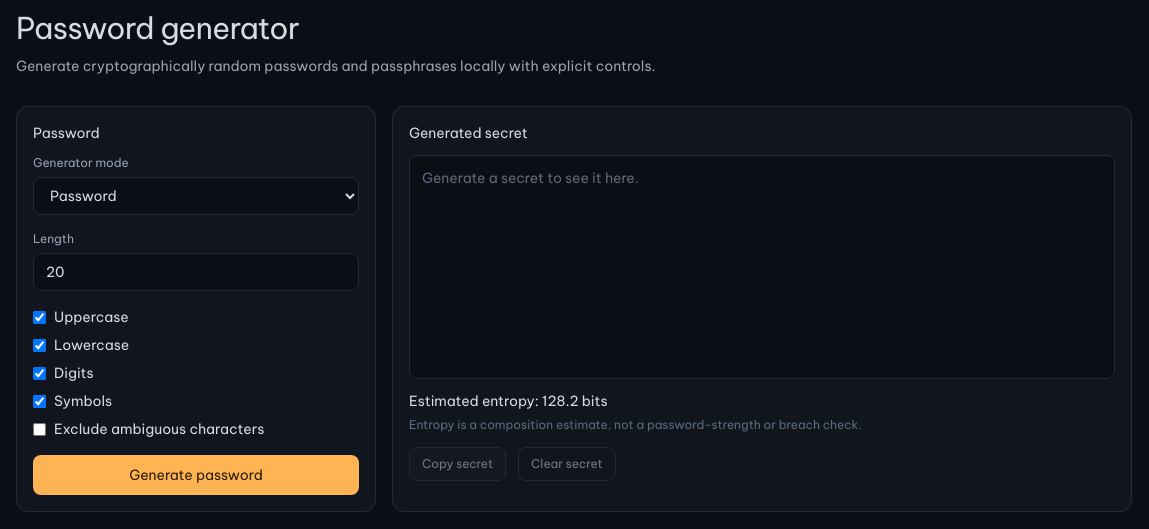
Test case: Password Generator tool › resets copy confirmation when a new secret is generated
The image size is (1149, 529).
Click the button "Generate password" at (196, 475), box [33,455,359,495]
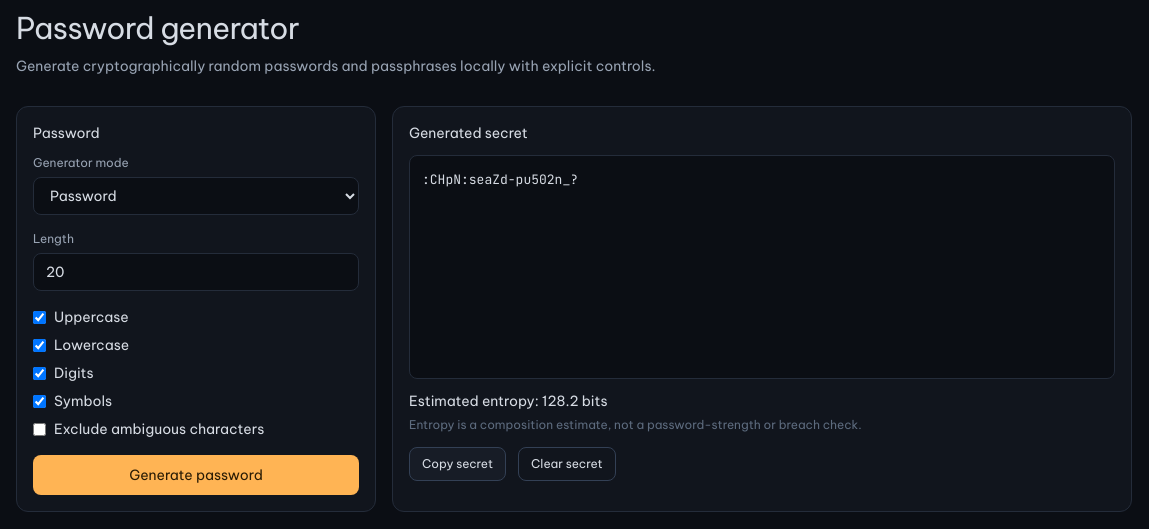
Click the button "Copy secret" at (458, 464), box [409,447,506,481]
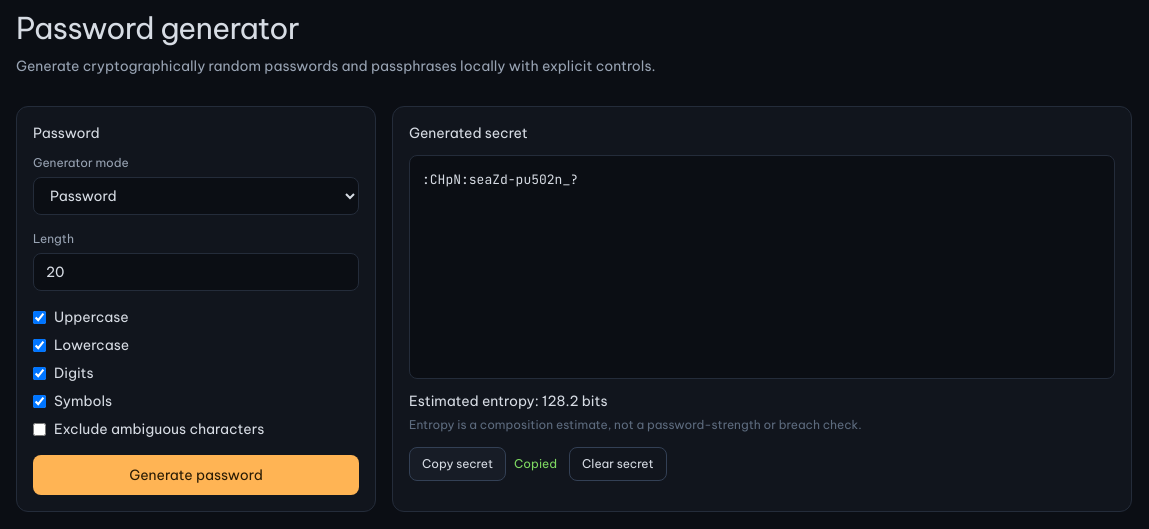
Check: the message reads "Copied", box [514,456,557,471]
Click the button "Generate password" at (196, 475), box [33,455,359,495]
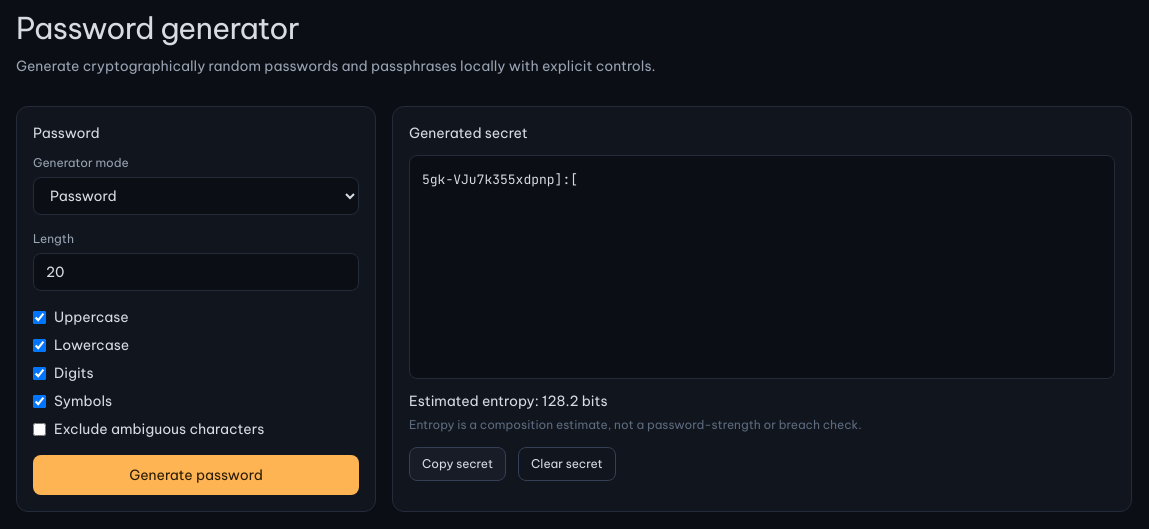
Check: the message "Copied" is gone
